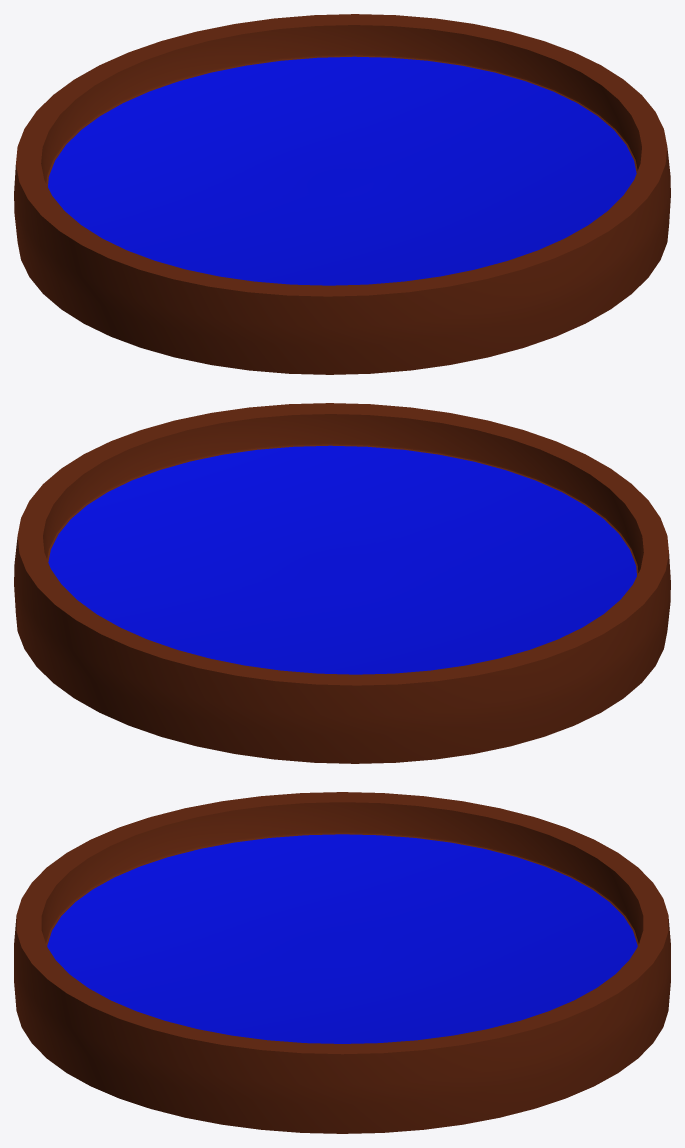
Rendered from Boton_finalTurno.FBX.
3 renders of one model, top to bottom at view 1: azimuth 30°, elevation 25°; view 2: azimuth 150°, elevation 25°; view 3: azimuth 270°, elevation 25°, orthographic.
Parts seen in each view (by area): view 1: finalTurno; view 2: finalTurno; view 3: finalTurno.
Part boxes in pixels (x1=…): finalTurno: x1=14, y1=14, x2=670, y2=374; finalTurno: x1=14, y1=403, x2=670, y2=763; finalTurno: x1=14, y1=792, x2=670, y2=1133.
Bounding box in the file's own units: 41.68 × 6.47 × 41.58.
